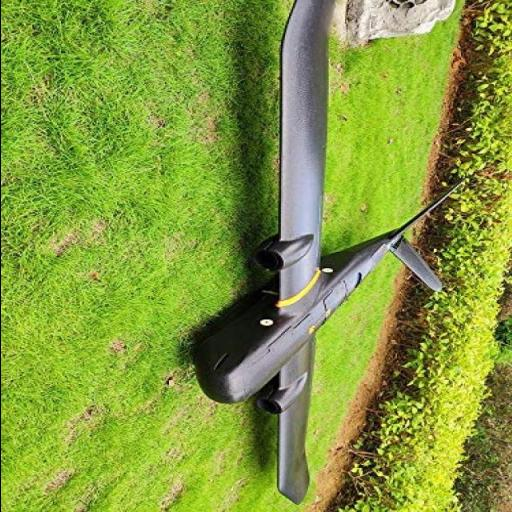uav: (182, 1, 468, 512)
